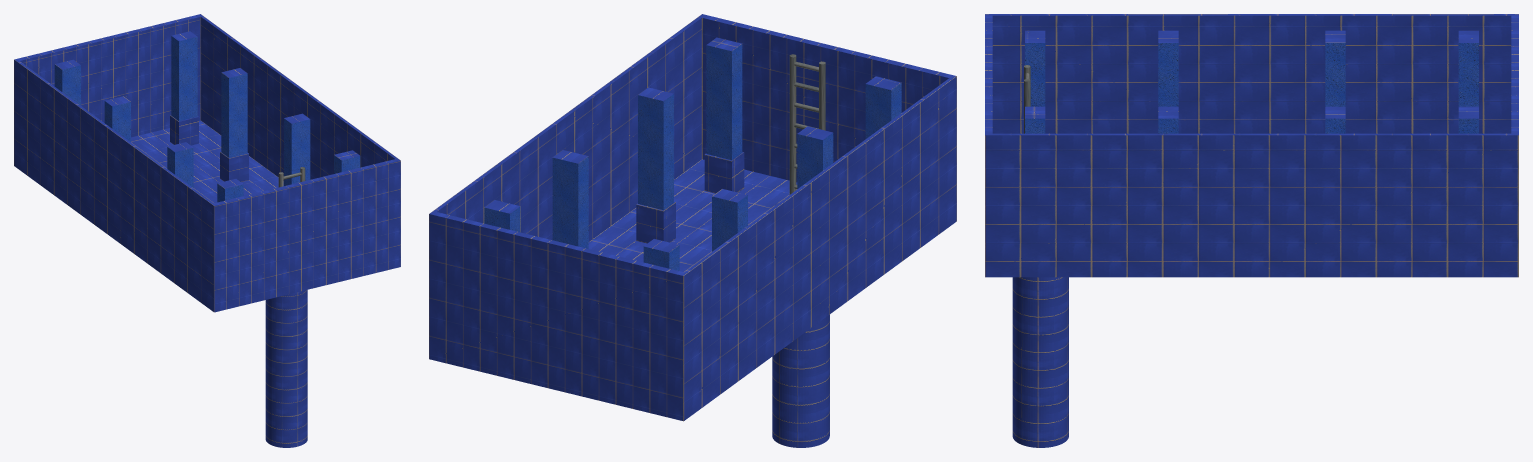
File: poolroom.obj
The picture shows the model from 3 angles, left to right: view 1: azimuth 30°, elevation 25°; view 2: azimuth 150°, elevation 25°; view 3: azimuth 270°, elevation 25°; orthographic projection. The views are drawn at different scales.
Visible parts, largest first — view 1: Plane, Plane.001; view 2: Plane, Plane.001, Cylinder; view 3: Plane, Plane.001.
Part boxes in pixels (box(x1,y1,x2,y2)): Plane: box(14, 14, 400, 312); Plane.001: box(265, 290, 307, 447); Plane: box(429, 14, 956, 421); Plane.001: box(772, 314, 829, 447); Cylinder: box(789, 54, 825, 194); Plane: box(985, 14, 1518, 277); Plane.001: box(1012, 277, 1068, 447).
Size of the model in its own units: 14.68 by 20.45 by 27.27.
